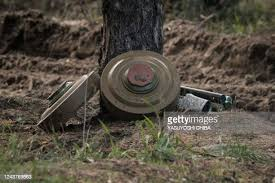car: (92, 47, 194, 125)
